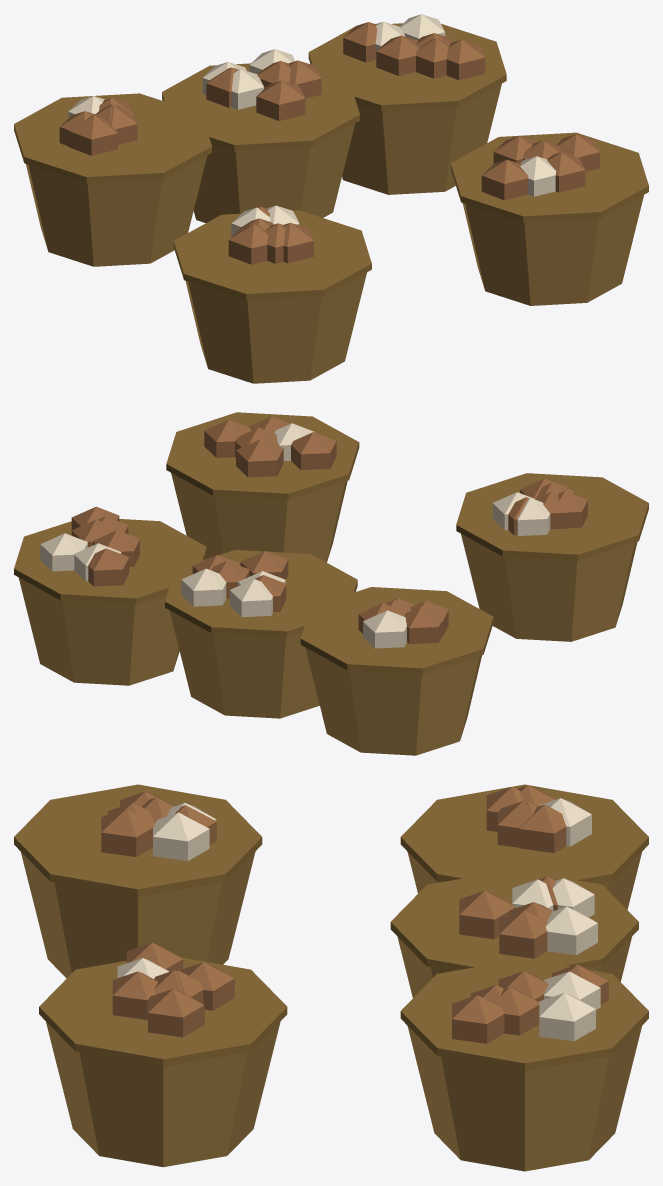
File: pile_mushrooms_2.glb
The picture shows the model from 3 angles, top to bottom: view 1: azimuth 30°, elevation 25°; view 2: azimuth 150°, elevation 25°; view 3: azimuth 270°, elevation 25°; orthographic projection. The views are drawn at different scales.
Visible parts, largest first — view 1: pile_mushrooms_2; view 2: pile_mushrooms_2; view 3: pile_mushrooms_2.
Part boxes in pixels (bbox=[...]): pile_mushrooms_2: bbox=[14, 14, 648, 383]; pile_mushrooms_2: bbox=[14, 412, 648, 755]; pile_mushrooms_2: bbox=[14, 784, 648, 1171].
Size of the model in its own units: 1.31 by 0.348 by 1.26.
